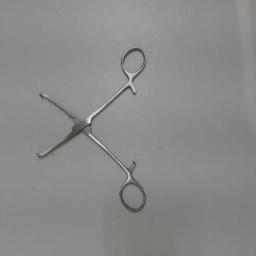Allis Tissue Forceps: (34, 40, 150, 218)
